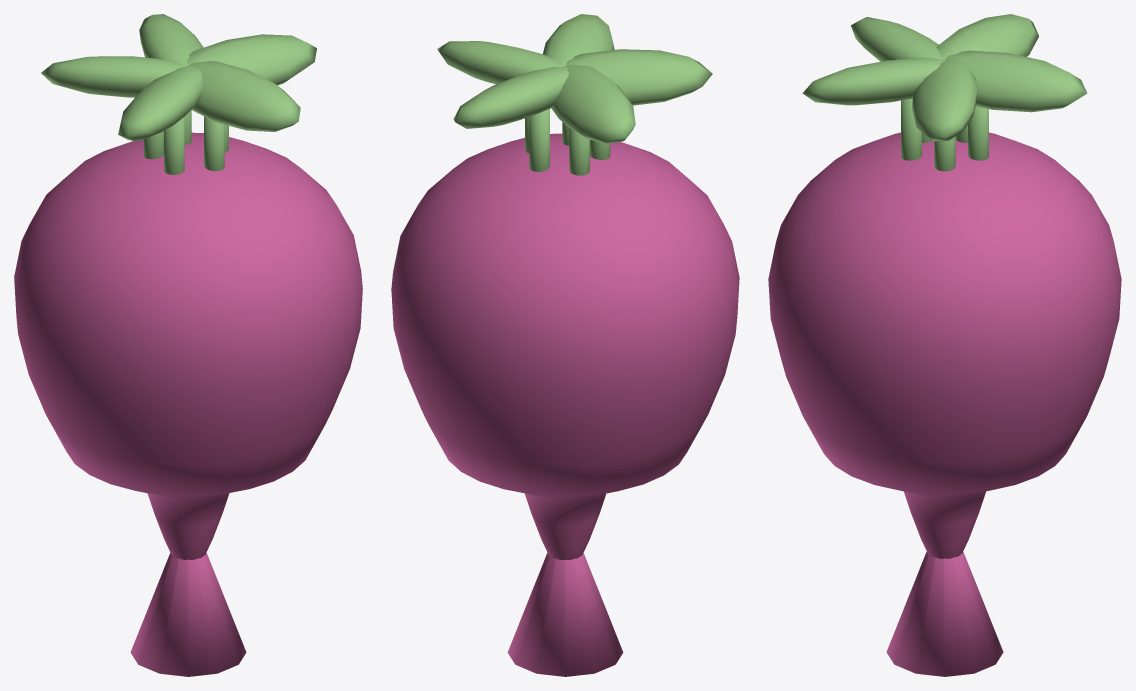
File: Beetroot.glb
The picture shows the model from 3 angles, left to right: view 1: azimuth 30°, elevation 25°; view 2: azimuth 150°, elevation 25°; view 3: azimuth 270°, elevation 25°; orthographic projection.
Parts seen in each view (by area): view 1: Beetroot; view 2: Beetroot; view 3: Beetroot.
Part boxes in pixels (bbox=[...]): Beetroot: bbox=[14, 14, 362, 676]; Beetroot: bbox=[391, 14, 739, 676]; Beetroot: bbox=[768, 14, 1121, 676].
Bounding box in the file's own units: 0.5989 × 1.13 × 0.6033.
